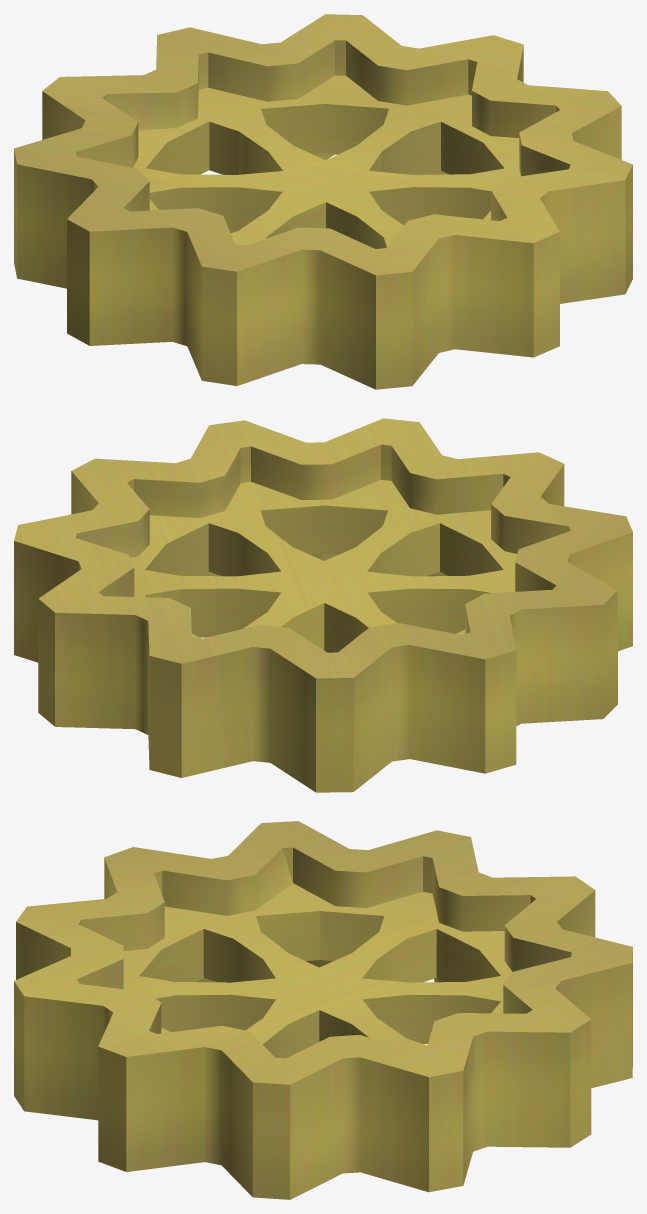
File: CogFacet6Spoke011.fbx
3 renders of one model, top to bottom at view 1: azimuth 30°, elevation 25°; view 2: azimuth 150°, elevation 25°; view 3: azimuth 270°, elevation 25°, orthographic.
Visible parts, largest first — view 1: CogFacet6Spoke011; view 2: CogFacet6Spoke011; view 3: CogFacet6Spoke011.
Boxes of the visible parts, left/top/right/bottom form: CogFacet6Spoke011: left=14, top=14, right=632, bottom=389; CogFacet6Spoke011: left=14, top=418, right=632, bottom=792; CogFacet6Spoke011: left=14, top=821, right=632, bottom=1199.
Bounding box in the file's own units: 107 × 21.75 × 106.
